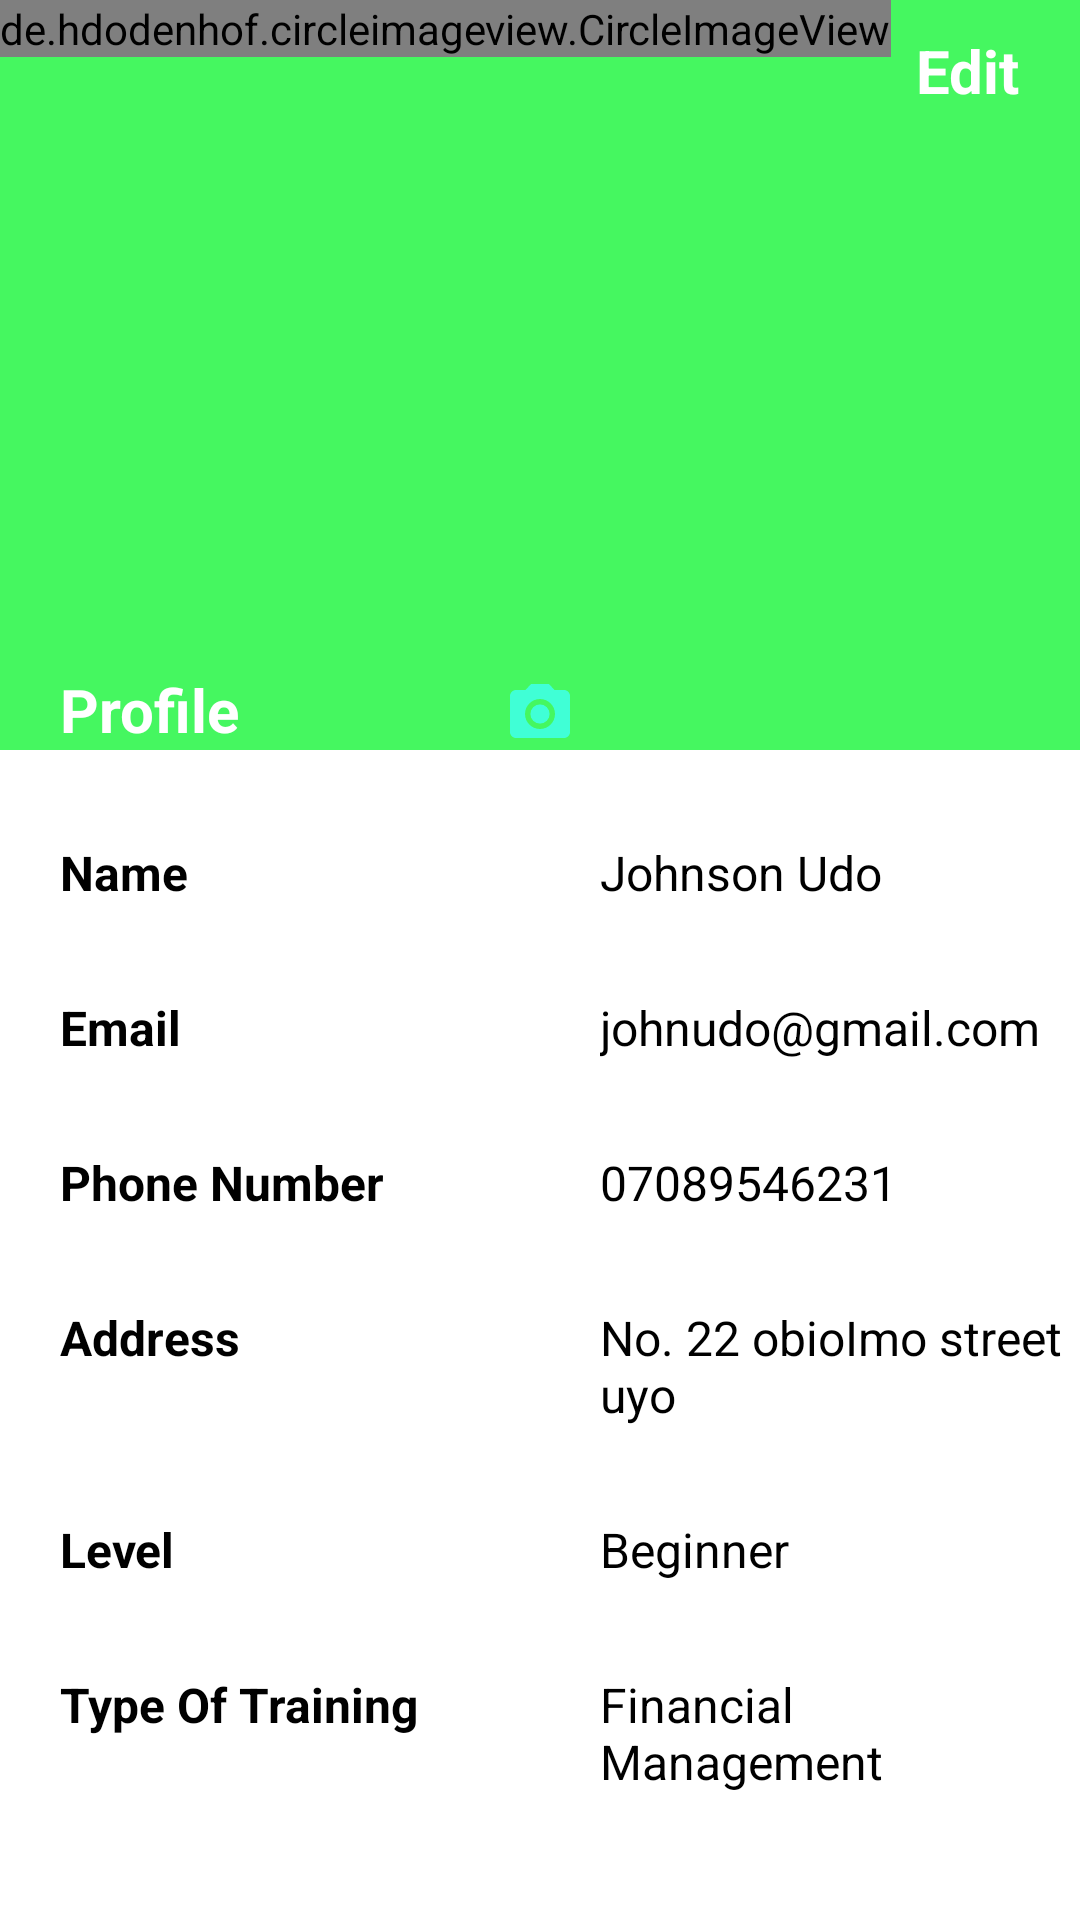

Icons on this 1080×1920 Android screen, each with the point to tap as point (x, y):
photo camera: point (540, 711)
